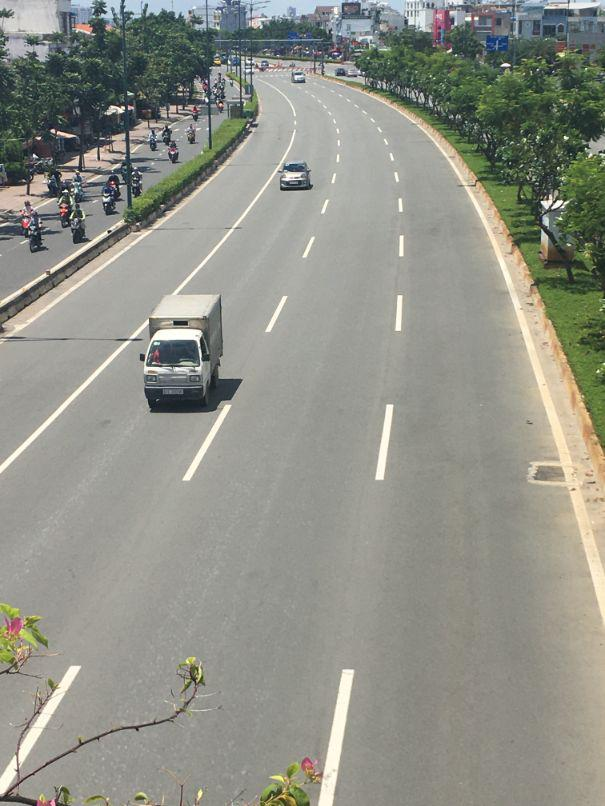car: (279, 159, 312, 190), (290, 70, 305, 84)
motorbike: (72, 209, 89, 241)
truck: (146, 293, 226, 417)
